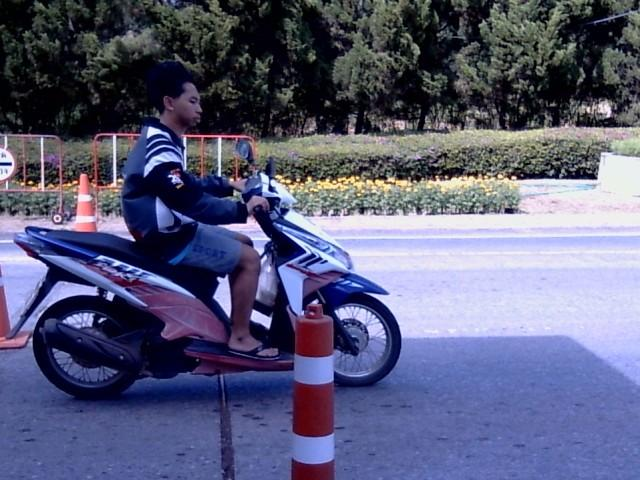motor: (9, 158, 401, 397)
no-helmet: (143, 56, 207, 137)
person: (122, 61, 278, 359)
